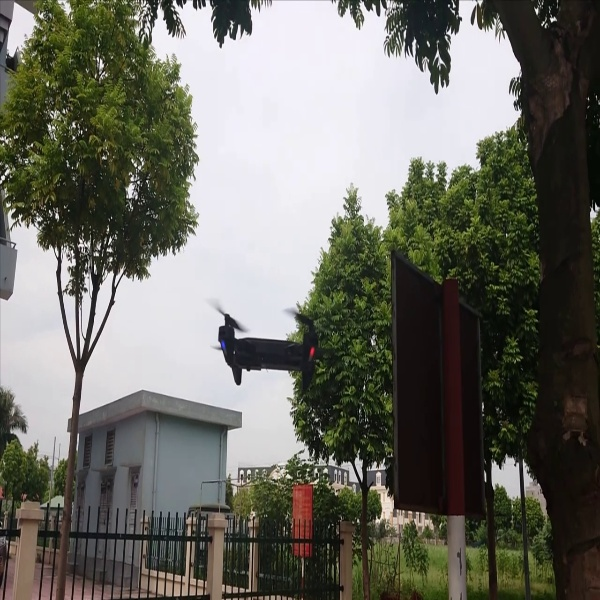drone: (196, 295, 331, 388)
